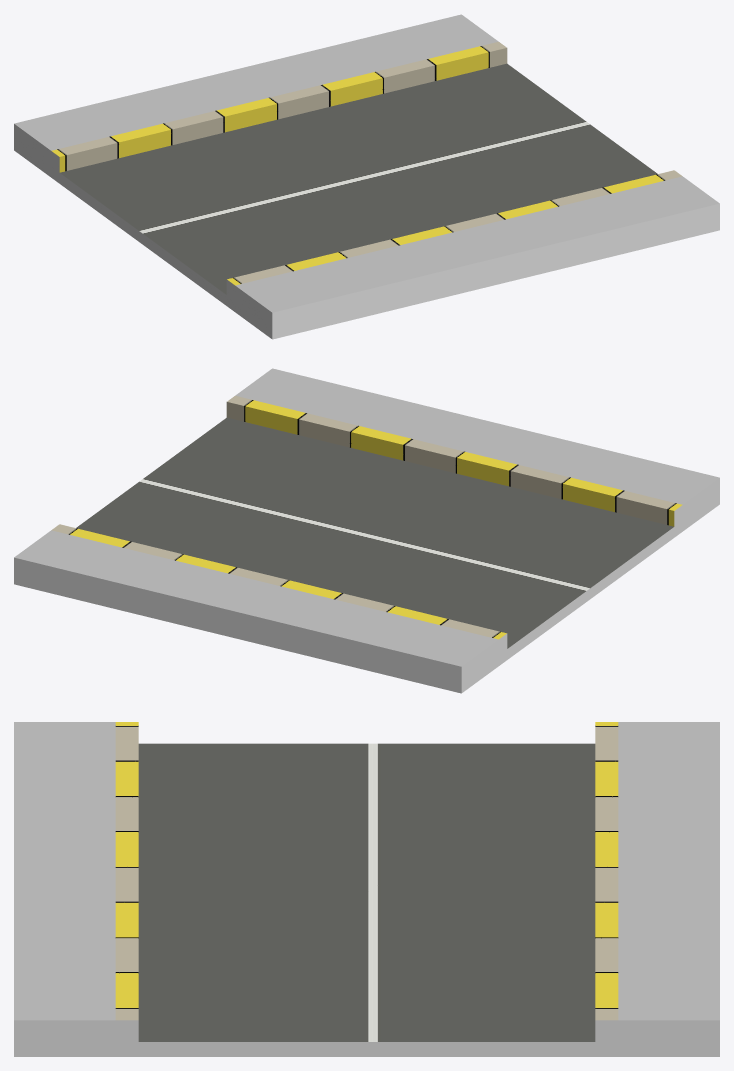
The model's file is dik.dae.
3 renders of one model, top to bottom at view 1: azimuth 30°, elevation 25°; view 2: azimuth 150°, elevation 25°; view 3: azimuth 270°, elevation 25°, orthographic. The views are drawn at different scales.
Visible parts, largest first — view 1: group_0 (×6); view 2: group_0 (×6); view 3: group_0 (×6).
Part boxes in pixels (x1,y1,x2,y2): group_0 (×6): (14, 14, 719, 339); group_0 (×6): (14, 368, 719, 693); group_0 (×6): (14, 722, 719, 1056).
Bounding box in the file's own units: 134 × 134 × 7.66.
4 materials, 2 textured.
